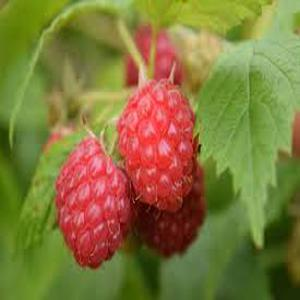raspb: (52, 90, 212, 266)
